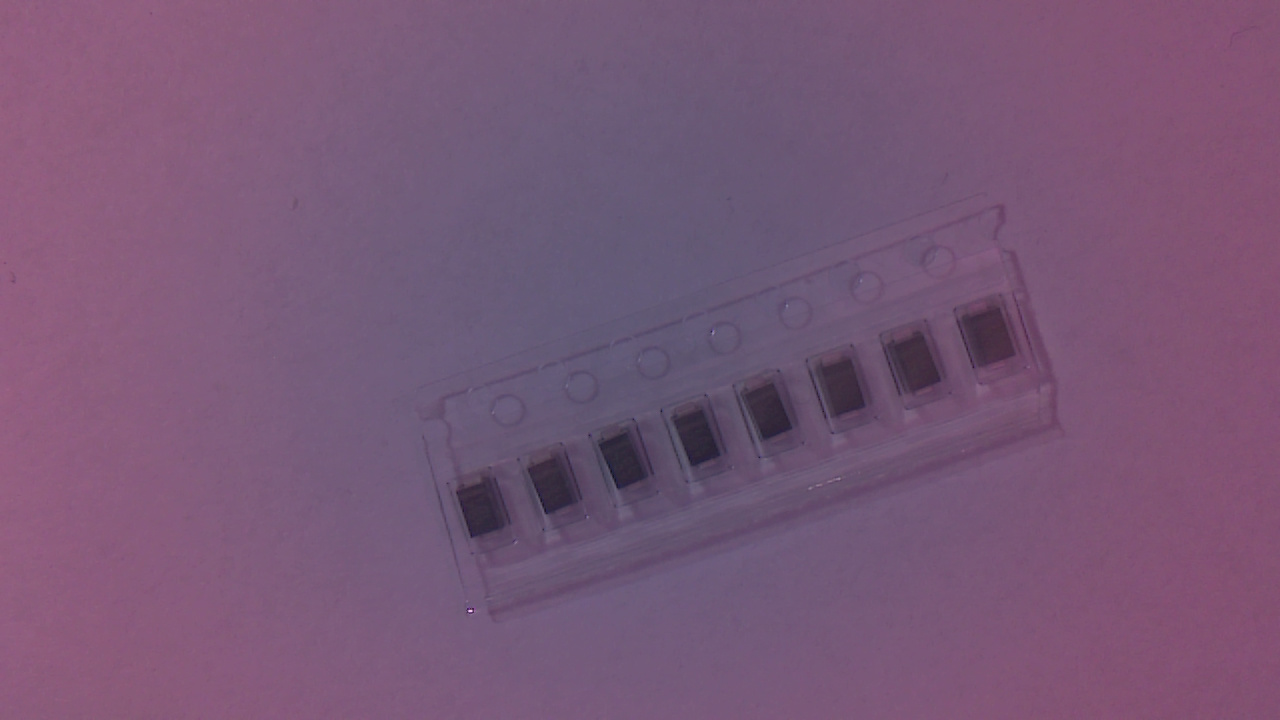Diode: (960, 306, 1026, 376), (890, 331, 948, 404), (599, 431, 656, 504), (530, 453, 585, 527), (819, 353, 872, 427), (743, 384, 800, 451), (458, 478, 511, 549), (673, 410, 729, 477)
